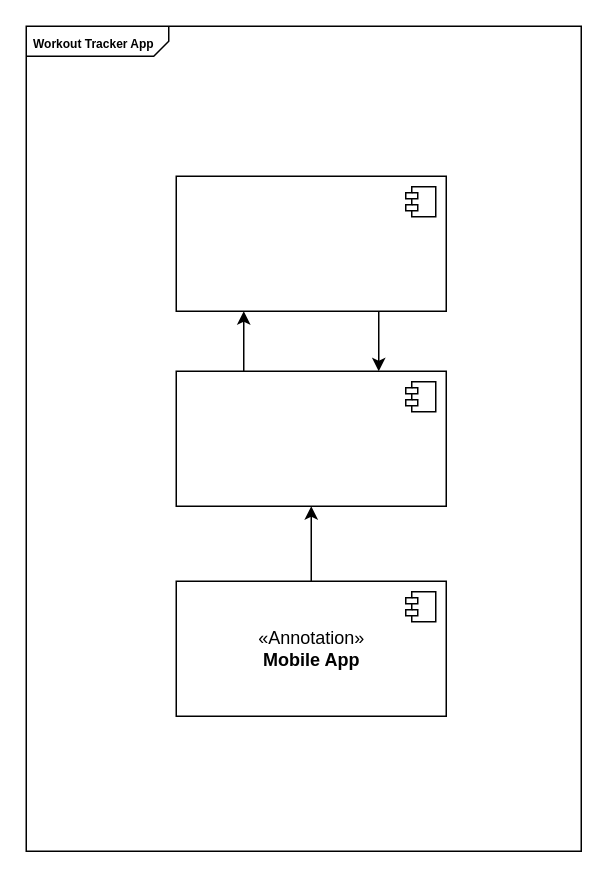
The diagram is 608 pixels wide and 890 high, and some of its shapes have lost their labels. The centre of each missing label's shape, as x and y in pixels:
«Annotation» Database: the point at 310,243
«Annotation» Server: the point at 310,438
